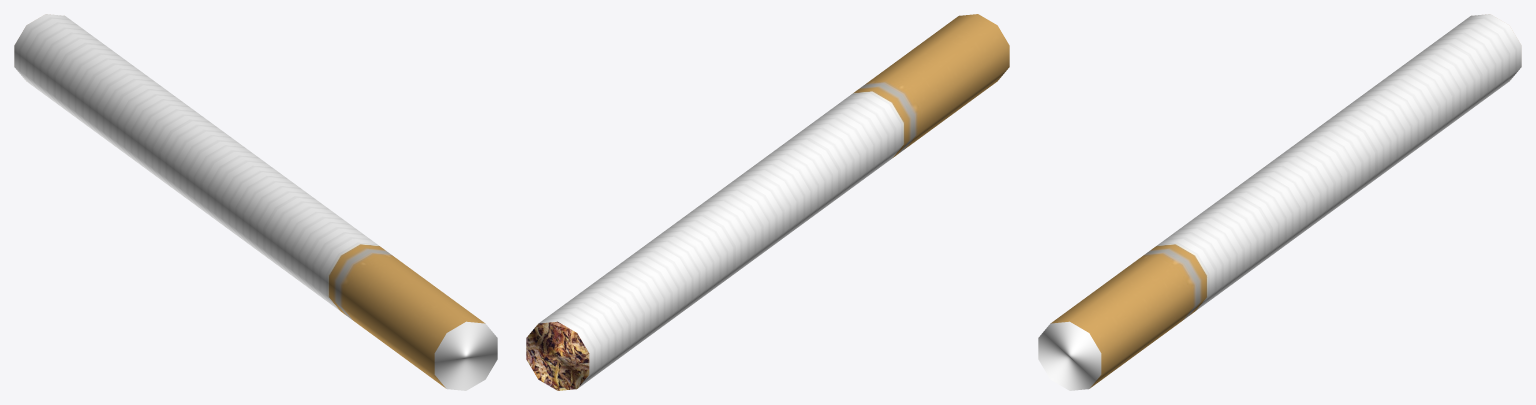
Rendered from cigarette_free.glb.
3 views of the same model, side by side, from view 1: azimuth 30°, elevation 25°; view 2: azimuth 150°, elevation 25°; view 3: azimuth 330°, elevation 25° (orthographic).
Parts seen in each view (by area): view 1: Cylinder; view 2: Cylinder; view 3: Cylinder.
Part boxes in pixels (left/top/right/bottom): Cylinder: left=14, top=14, right=497, bottom=390; Cylinder: left=526, top=14, right=1009, bottom=390; Cylinder: left=1038, top=14, right=1521, bottom=390.
Bounding box in the file's own units: 0.019 × 0.02 × 0.22.
Materials: 3 (2 with a texture image).
